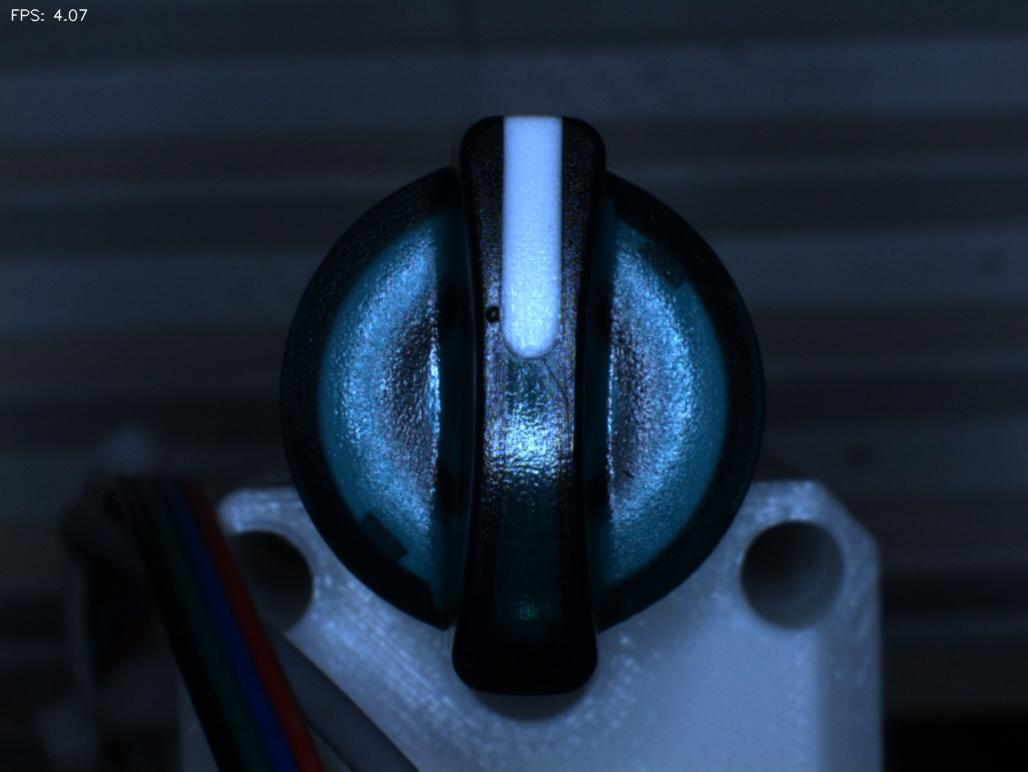Choc: (454, 274, 538, 365)
